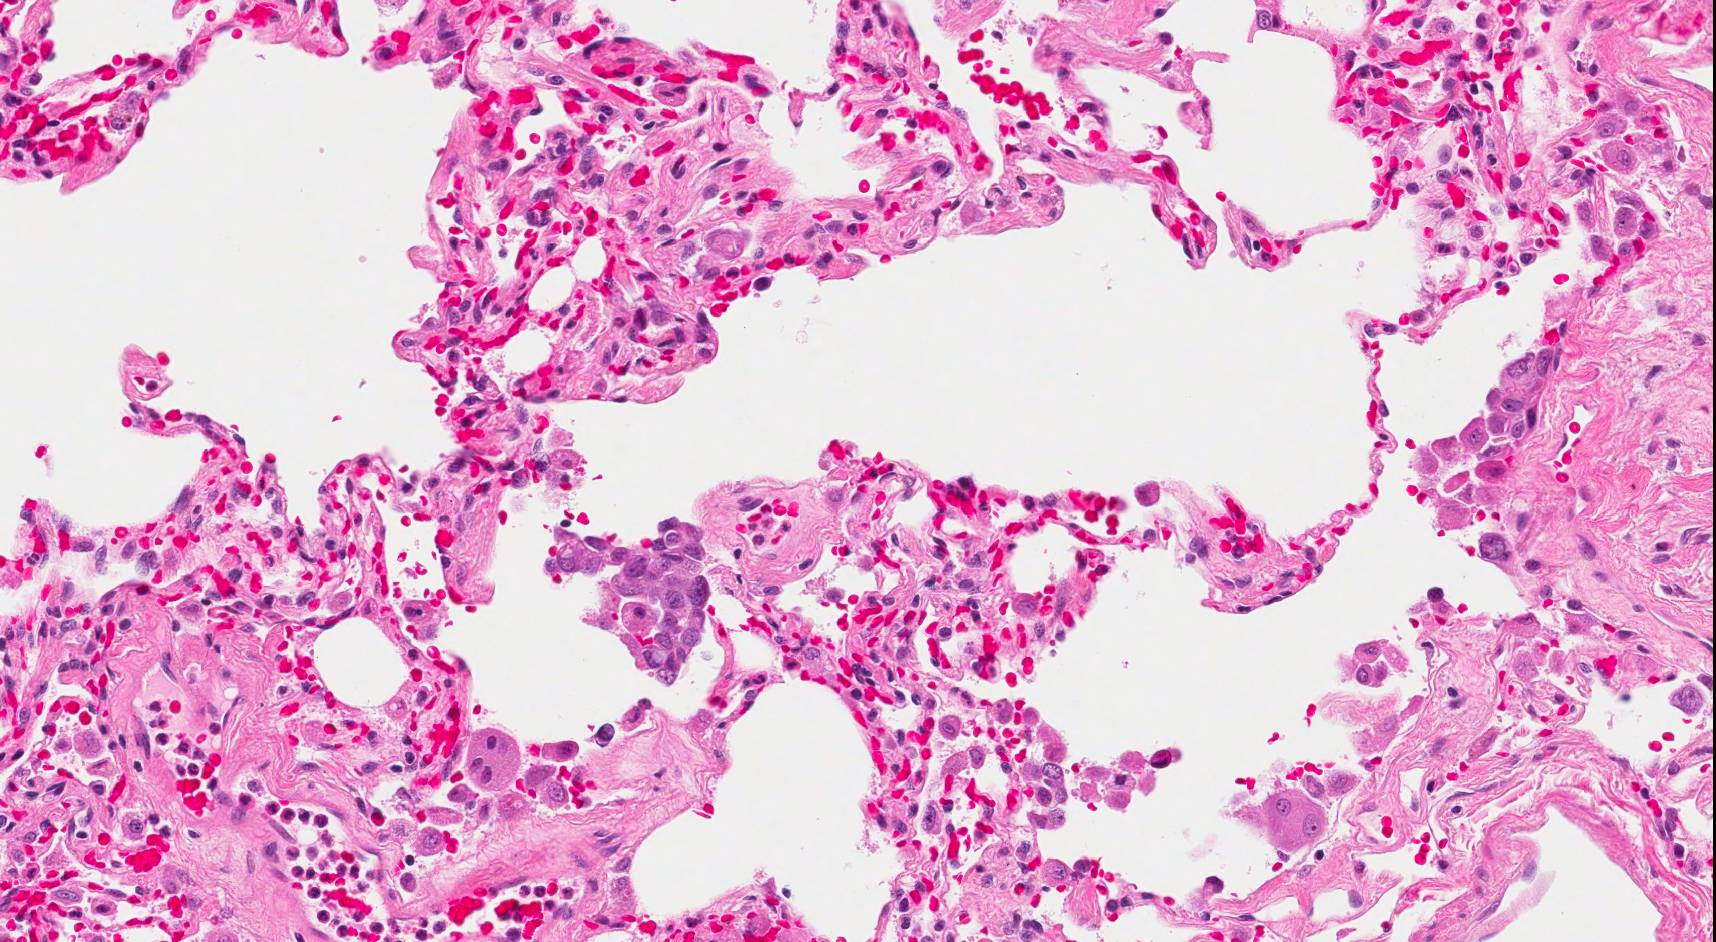stas: (547, 520, 713, 682), (1031, 758, 1068, 837)
